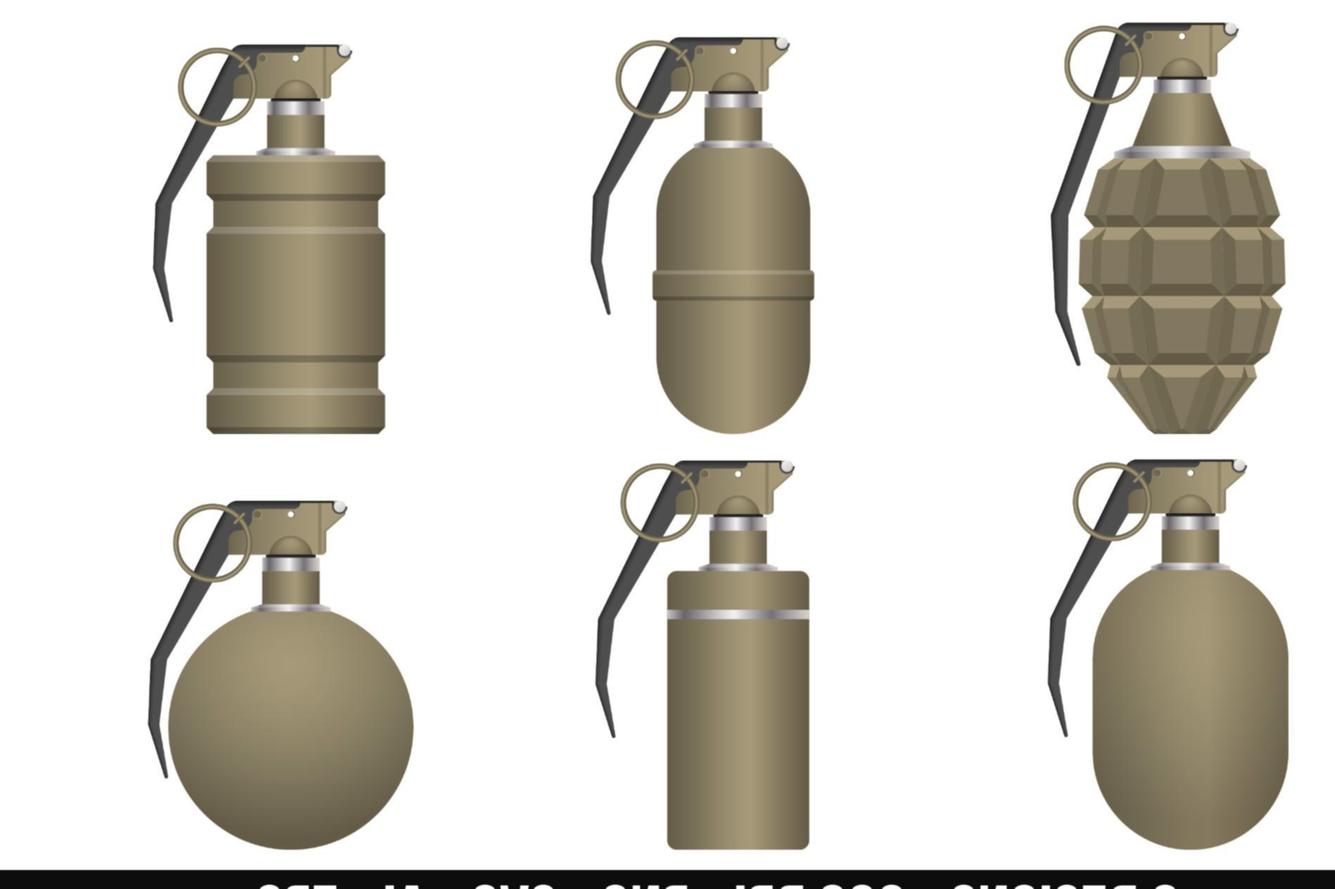Grenade: (1055, 20, 1286, 436), (1048, 458, 1290, 849), (153, 38, 387, 431), (151, 497, 411, 850), (593, 35, 815, 435), (596, 457, 812, 849)
